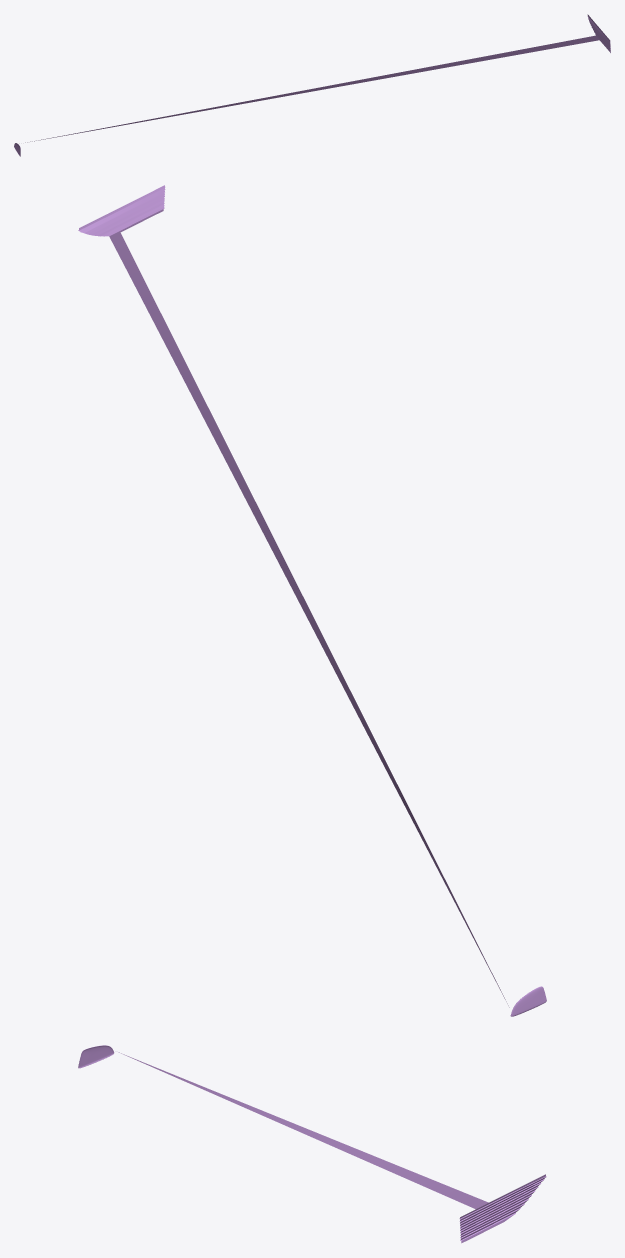
The model's file is unsorted_05.glb.
The picture shows the model from 3 angles, top to bottom: view 1: azimuth 30°, elevation 25°; view 2: azimuth 150°, elevation 25°; view 3: azimuth 330°, elevation 25°; orthographic projection. The views are drawn at different scales.
Parts seen in each view (by area): view 1: clearglass_27; view 2: clearglass_27; view 3: clearglass_27.
Boxes of the visible parts, x1,y1,x2,y2 form: clearglass_27: (14,14,610,156); clearglass_27: (78,185,546,1016); clearglass_27: (78,1045,546,1243).
Bounding box in the file's own units: 1.87 × 0.7476 × 1.71.
